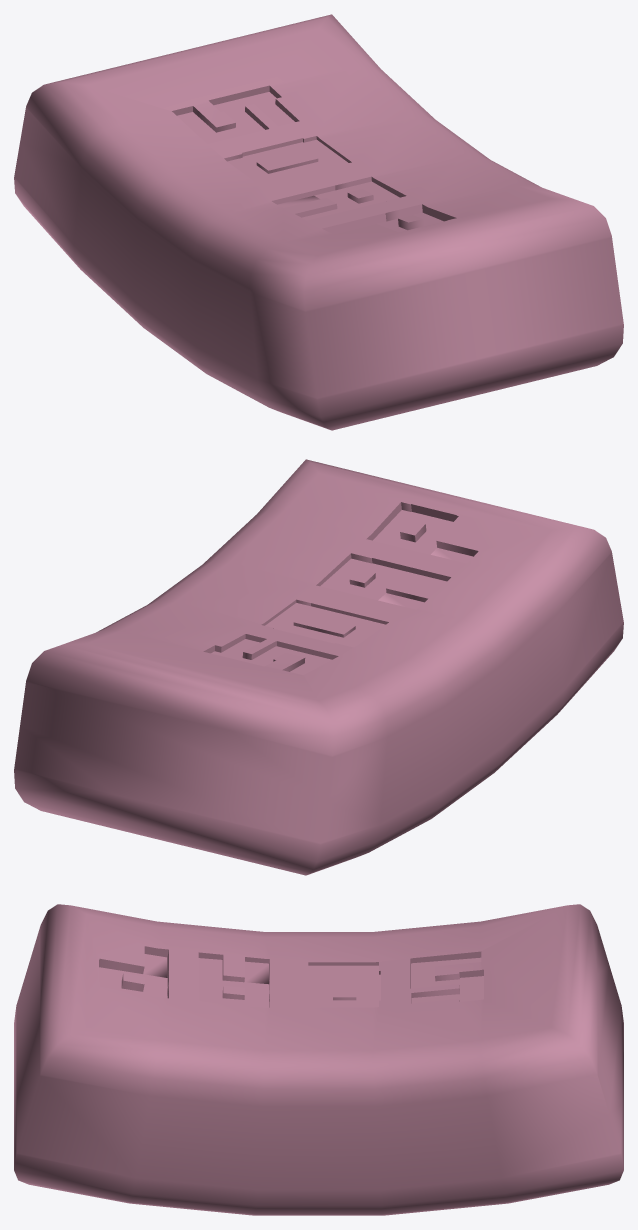
The model's file is soap.glb.
3 views of the same model, one above another, from view 1: azimuth 30°, elevation 25°; view 2: azimuth 150°, elevation 25°; view 3: azimuth 270°, elevation 25° (orthographic).
Visible parts, largest first — view 1: Box001; view 2: Box001; view 3: Box001.
Part boxes in pixels (x1,y1,x2,y2): Box001: [14, 14, 623, 430]; Box001: [14, 459, 623, 875]; Box001: [14, 904, 623, 1215].
Bounding box in the file's own units: 0.0254 × 0.0146 × 0.0439.
